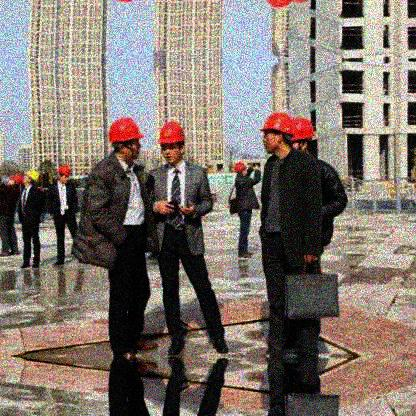helmet: (109, 119, 146, 163), (261, 113, 295, 156), (158, 122, 186, 165), (291, 115, 314, 153), (23, 170, 41, 187), (58, 167, 74, 186), (234, 163, 248, 177)
